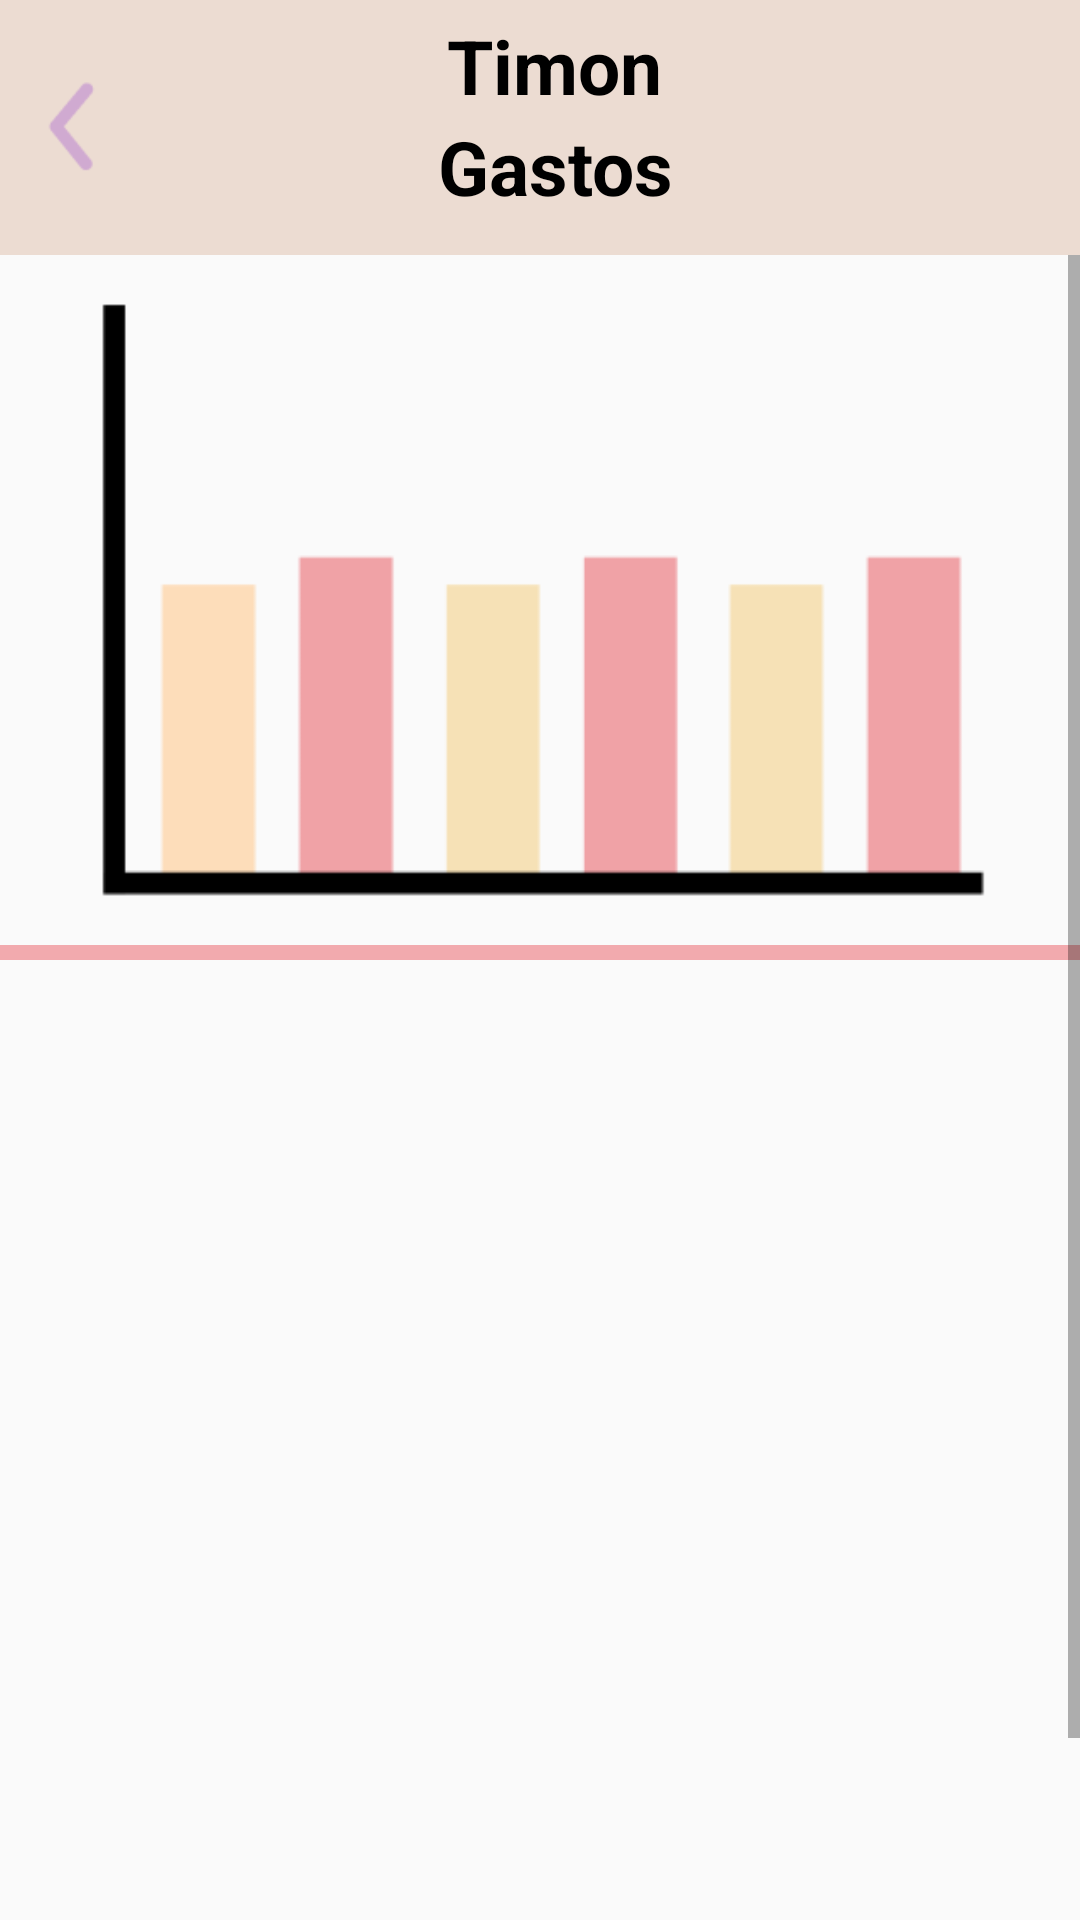

Screen size 1080w x 1920h. Icon name, then its center in pixels as [x,y]:
back: [71,126]
